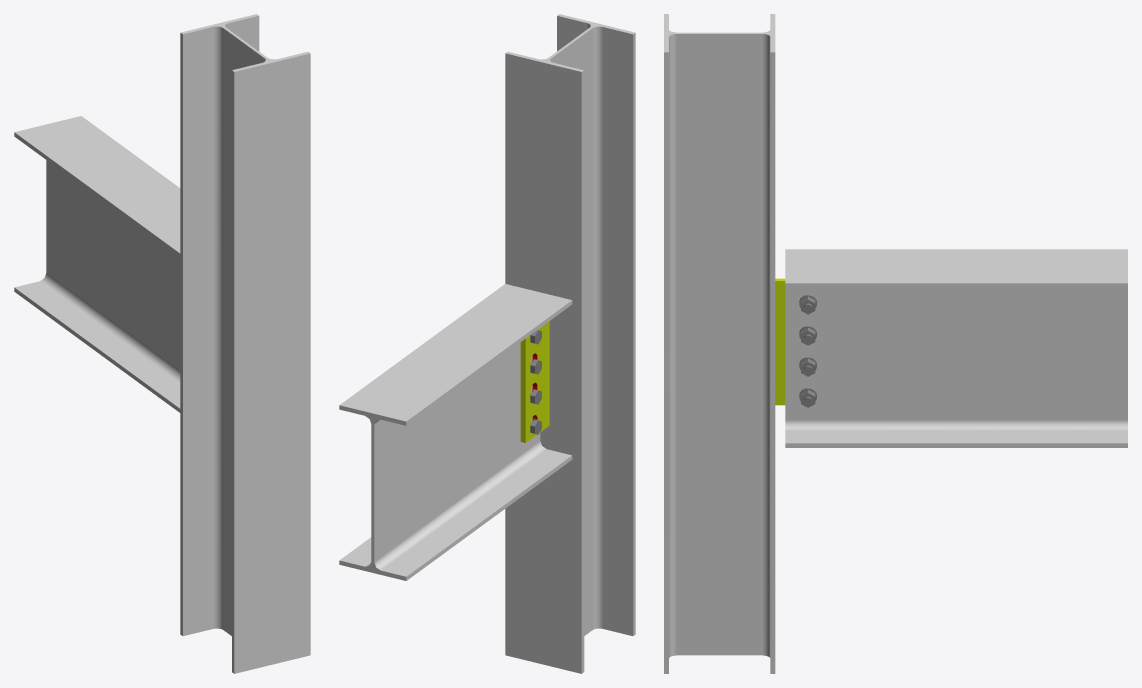
Rendered from 5-Bearing and Tearout at Plate.glb.
The picture shows the model from 3 angles, left to right: view 1: azimuth 30°, elevation 25°; view 2: azimuth 150°, elevation 25°; view 3: azimuth 270°, elevation 25°; orthographic projection. The views are drawn at different scales.
Parts seen in each view (by area): view 1: W-Wide Flange-Column W10X33 (1) [1245414], W-Wide Flange W16X36 (1) [1518880]; view 2: W-Wide Flange-Column W10X33 (1) [1245414], W-Wide Flange W16X36 (1) [1518880], [1715079], [1715081]; view 3: W-Wide Flange-Column W10X33 (1) [1245414], W-Wide Flange W16X36 (1) [1518880], [1715079], [1715081].
Part boxes in pixels (<box>): W-Wide Flange-Column W10X33 (1) [1245414]: <box>180,14,310,673</box>; W-Wide Flange W16X36 (1) [1518880]: <box>14,116,180,412</box>; W-Wide Flange-Column W10X33 (1) [1245414]: <box>505,14,635,673</box>; W-Wide Flange W16X36 (1) [1518880]: <box>339,284,572,580</box>; [1715079]: <box>520,321,549,442</box>; [1715081]: <box>530,330,541,434</box>; W-Wide Flange-Column W10X33 (1) [1245414]: <box>664,14,775,673</box>; W-Wide Flange W16X36 (1) [1518880]: <box>785,249,1127,447</box>; [1715079]: <box>775,278,785,405</box>; [1715081]: <box>799,294,816,407</box>.
Bounding box in the file's own units: 0.2022 × 1.52 × 1.03.
